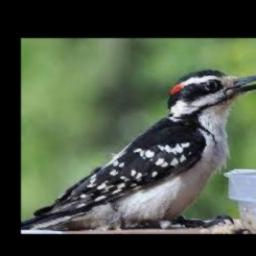Woodpecker: (21, 70, 256, 230)
